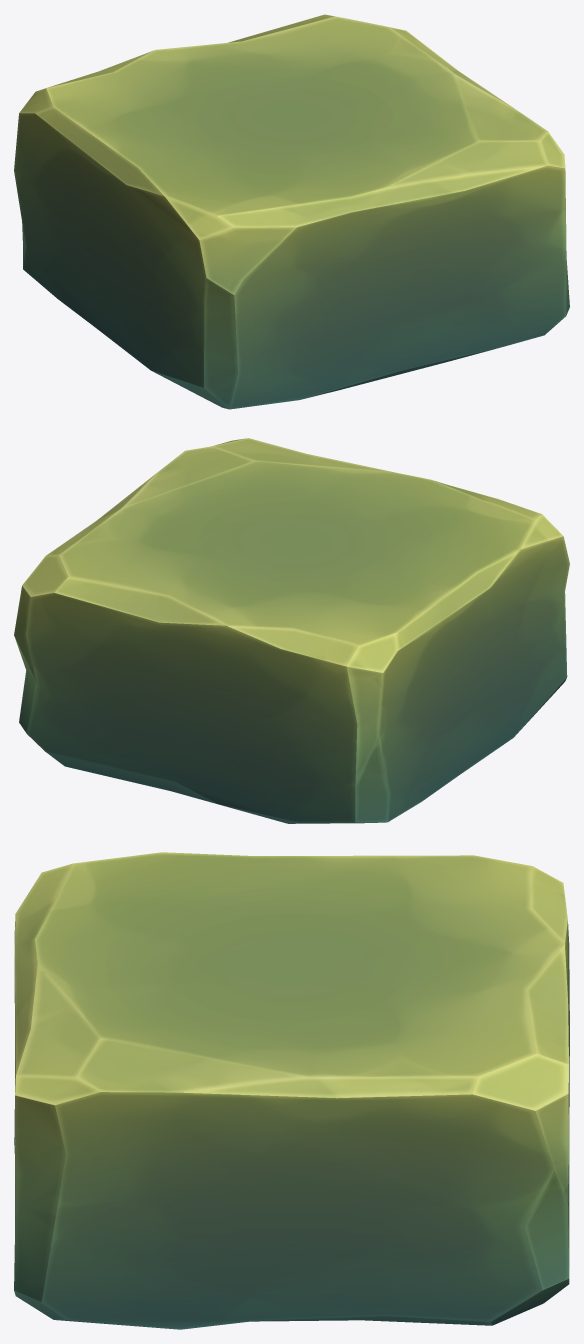
Rendered from grassTile.gltf.
3 views of the same model, one above another, from view 1: azimuth 30°, elevation 25°; view 2: azimuth 150°, elevation 25°; view 3: azimuth 270°, elevation 25° (orthographic). The views are drawn at different scales.
Visible parts, largest first — view 1: Cube_Material_0; view 2: Cube_Material_0; view 3: Cube_Material_0.
Part boxes in pixels (x1,y1,x2,y2): Cube_Material_0: (14, 14, 569, 409); Cube_Material_0: (14, 438, 569, 823); Cube_Material_0: (14, 852, 569, 1329).
Size of the model in its own units: 2.01 by 1 by 2.
1 material, 1 textured.
